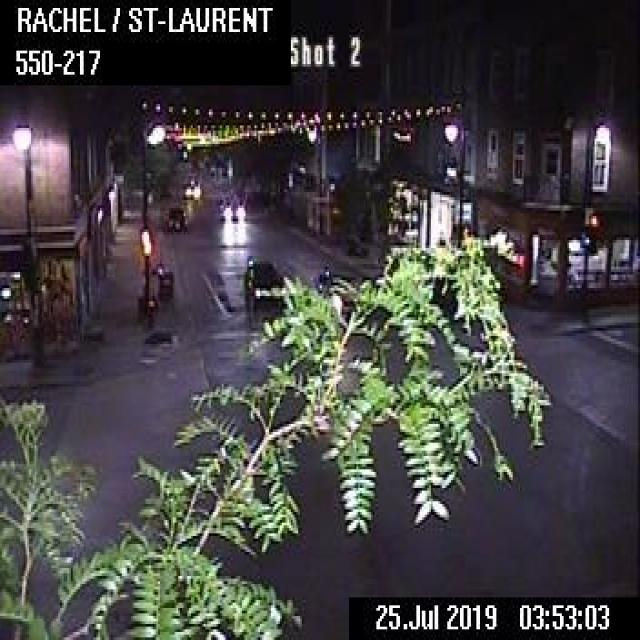vehicle: (242, 256, 282, 312), (218, 194, 244, 220), (165, 206, 182, 230), (182, 176, 200, 198)
